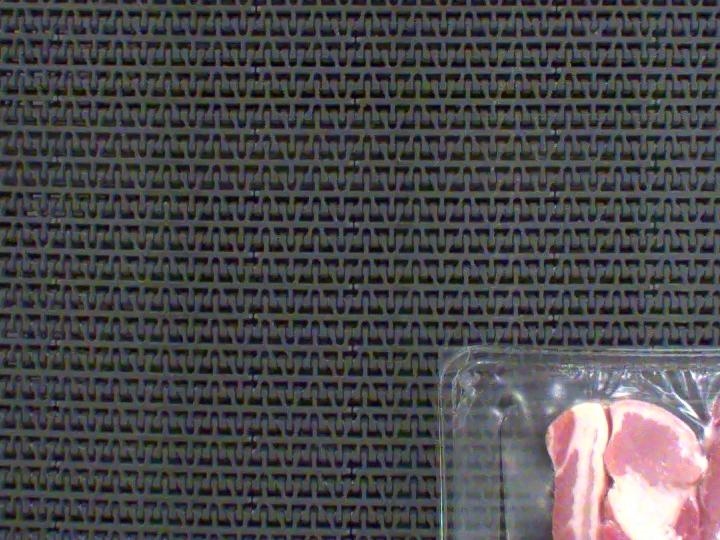unsealed: (497, 362, 720, 540)
